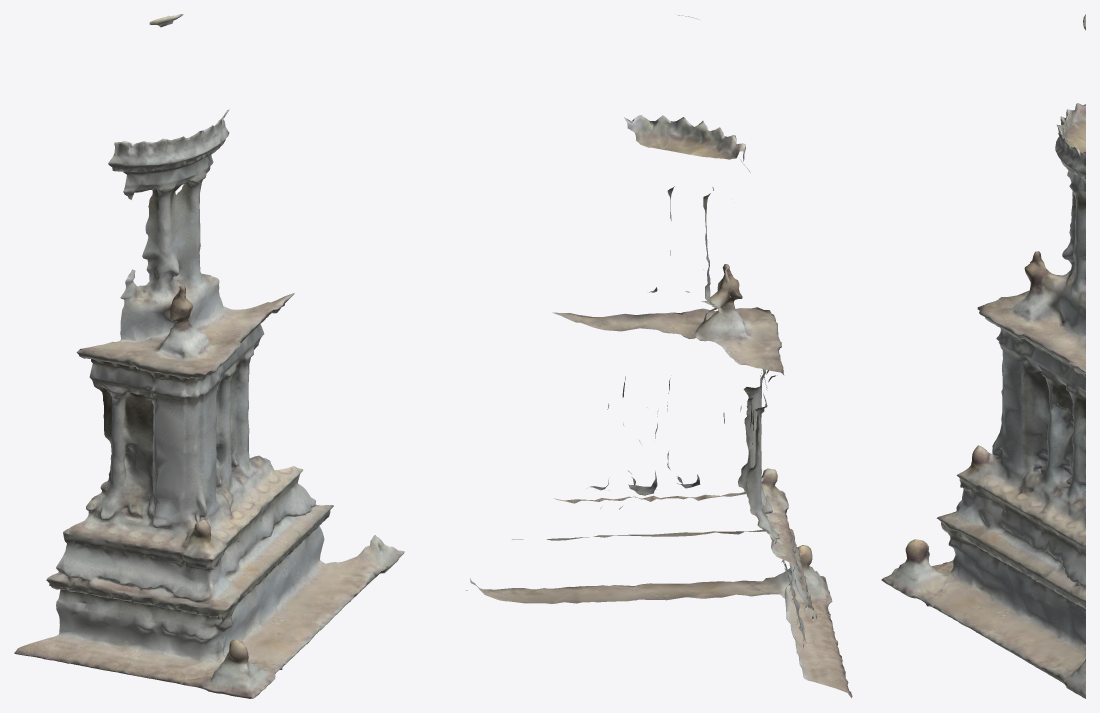
3 views of the same model, side by side, from view 1: azimuth 30°, elevation 25°; view 2: azimuth 150°, elevation 25°; view 3: azimuth 270°, elevation 25° (orthographic). The views are drawn at different scales.
Size of the model in its own units: 11.52 by 16.92 by 5.5.
1 material, 1 textured.
